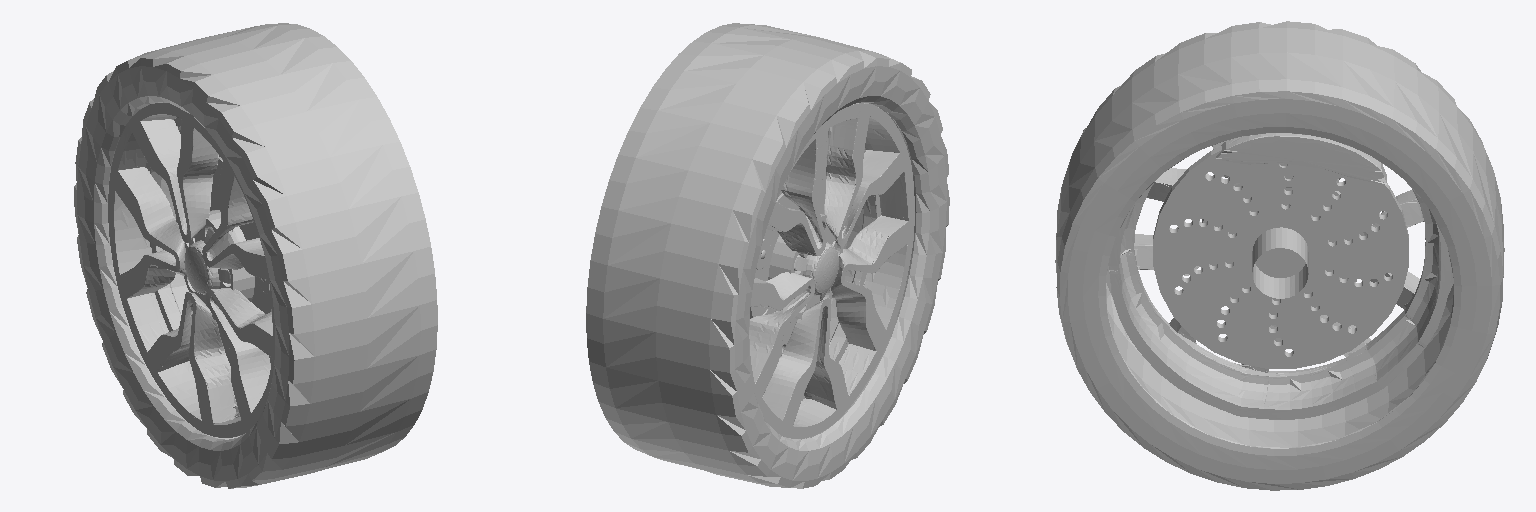
The model's file is LlantaDD.obj.
The picture shows the model from 3 angles: view 1: azimuth 30°, elevation 25°; view 2: azimuth 150°, elevation 25°; view 3: azimuth 270°, elevation 25°; orthographic projection.
Visible parts, largest first — view 1: audi_r8.002; view 2: audi_r8.002; view 3: audi_r8.002.
Part boxes in pixels (bbox=[...]): audi_r8.002: bbox=[74, 23, 437, 488]; audi_r8.002: bbox=[586, 23, 949, 488]; audi_r8.002: bbox=[1055, 21, 1504, 490].
Size of the model in its own units: 0.7786 by 2.07 by 2.07.